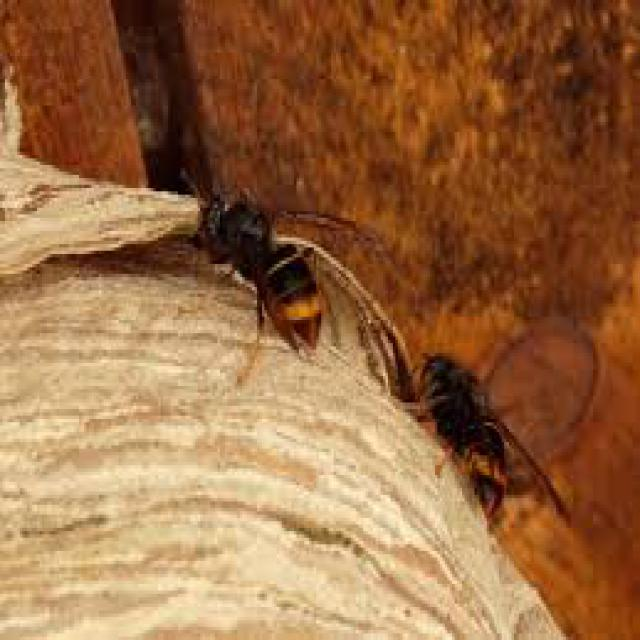Vespa Velutina: (169, 161, 375, 387), (387, 346, 572, 546)
